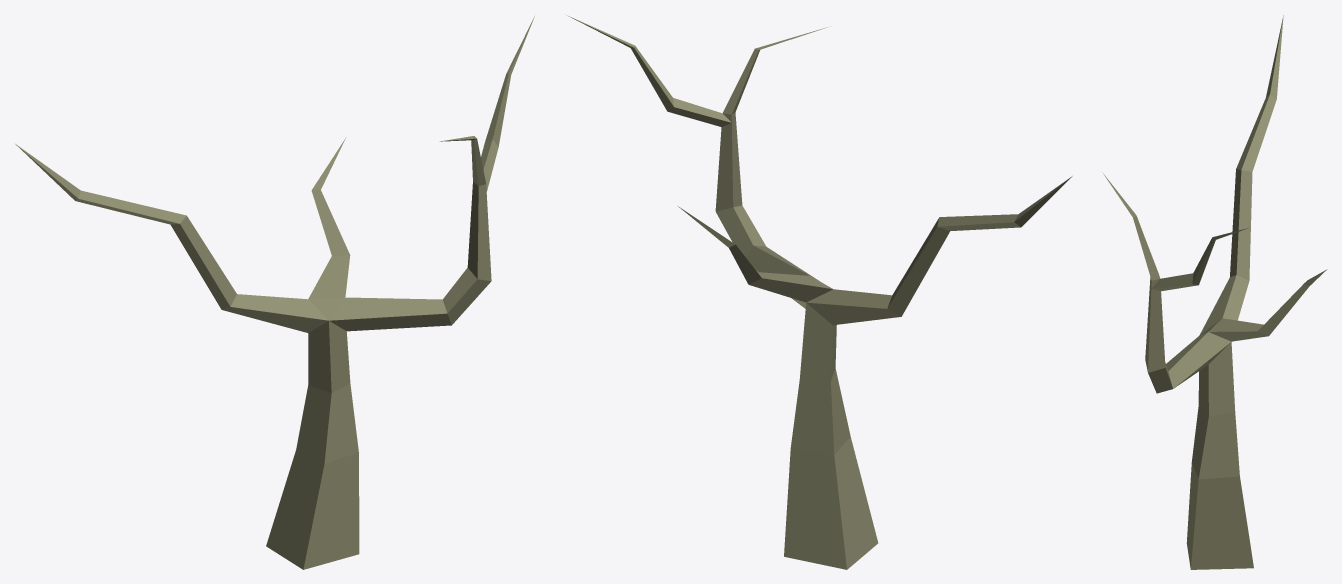
File: Dead_Tree_m_BT_03.fbx
3 views of the same model, side by side, from view 1: azimuth 30°, elevation 25°; view 2: azimuth 150°, elevation 25°; view 3: azimuth 270°, elevation 25° (orthographic). The views are drawn at different scales.
Visible parts, largest first — view 1: Dead_Tree_m_BT_03; view 2: Dead_Tree_m_BT_03; view 3: Dead_Tree_m_BT_03.
Part boxes in pixels (<box>): Dead_Tree_m_BT_03: <box>15,16,534,569</box>; Dead_Tree_m_BT_03: <box>565,14,1072,569</box>; Dead_Tree_m_BT_03: <box>1102,15,1327,569</box>.
Size of the model in its own units: 849 by 750 by 352.
